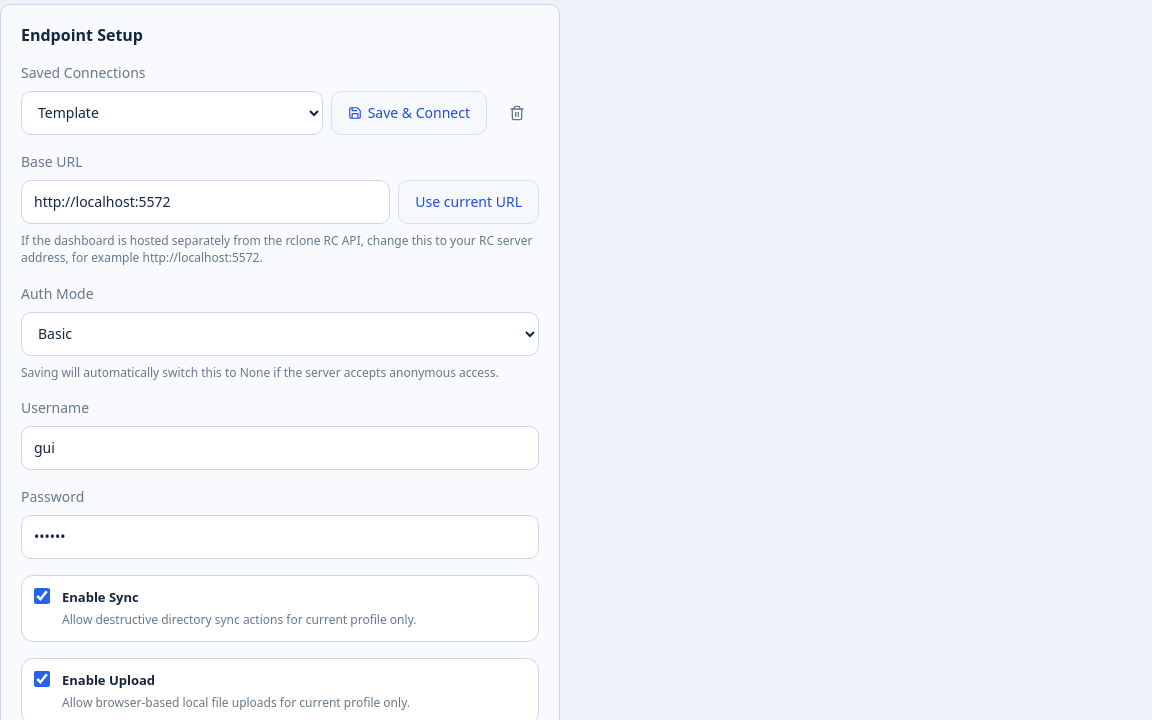
ConnectPage › connects automatically when switching saved profiles
Select "Backup" in the dropdown labelled "Saved Connections" at (172, 113), box x1=21 y1=91 x2=323 y2=135
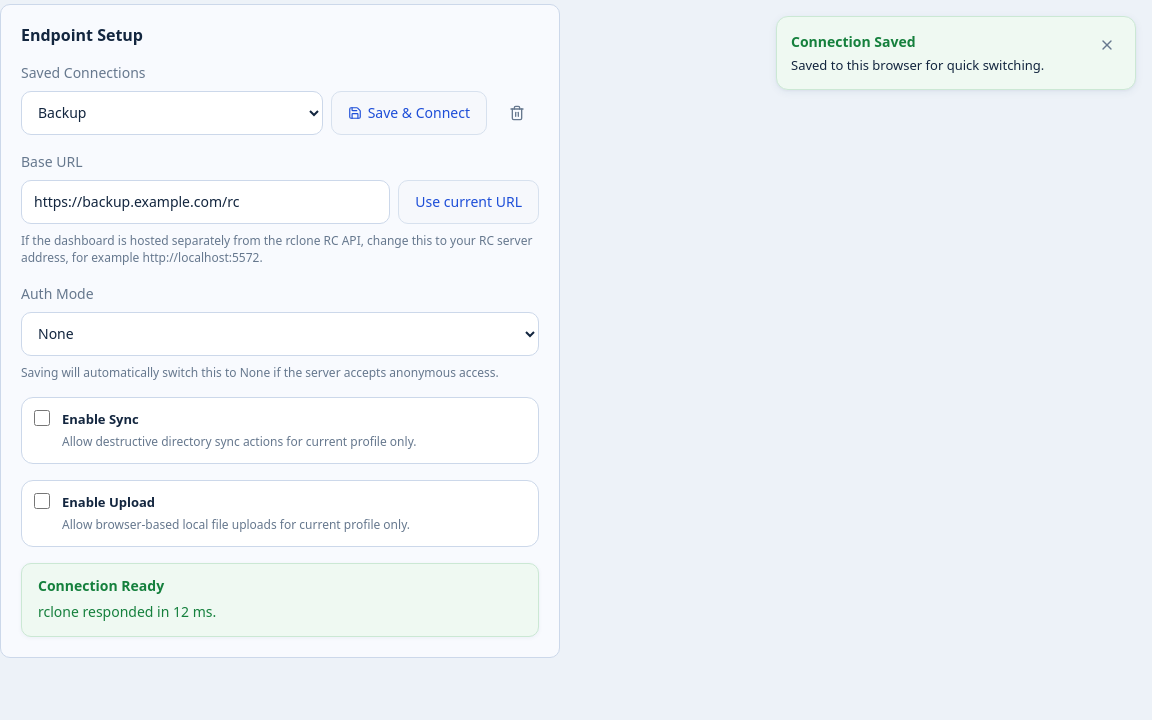
Expected: the field showing "https://backup.example.com/rc" is shown, x1=21 y1=180 x2=390 y2=224
Expected: the heading "Connection Ready" is shown, x1=38 y1=576 x2=164 y2=595
